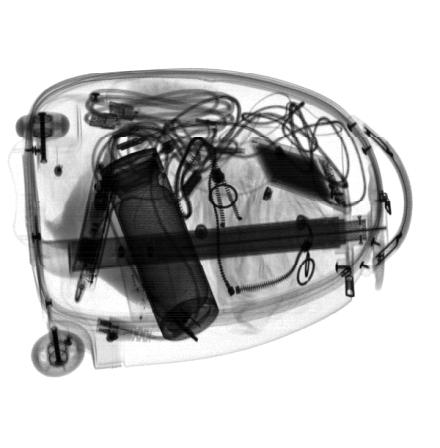Powerbank: (249, 136, 351, 216)
